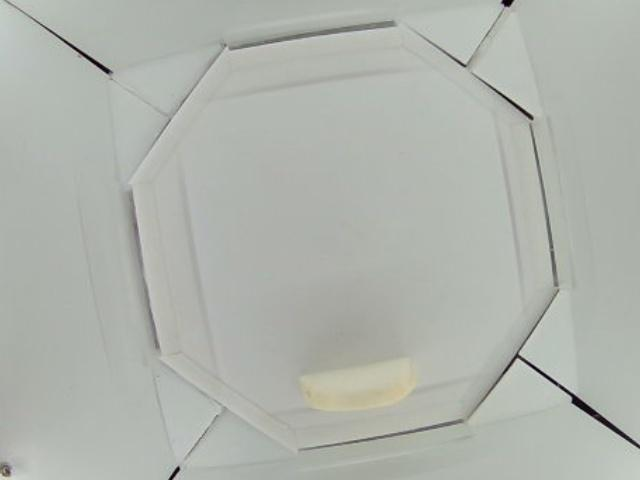Mooli: (297, 355, 416, 409)
